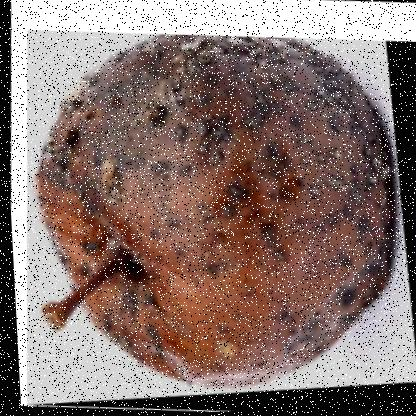apple_rotten: (6, 20, 415, 415)
